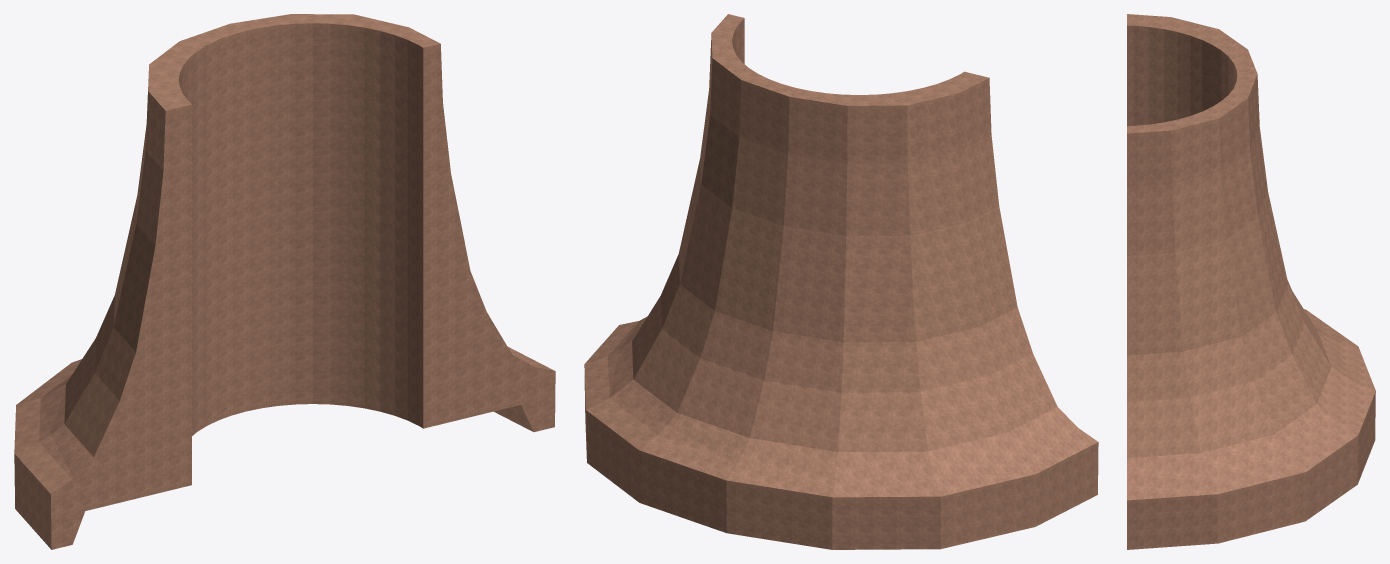
The model's file is Bell3.glb.
3 renders of one model, left to right at view 1: azimuth 30°, elevation 25°; view 2: azimuth 150°, elevation 25°; view 3: azimuth 270°, elevation 25°, orthographic. The views are drawn at different scales.
Visible parts, largest first — view 1: Mesh_Mesh_head_geo.001_lambert2SG.001; view 2: Mesh_Mesh_head_geo.001_lambert2SG.001; view 3: Mesh_Mesh_head_geo.001_lambert2SG.001.
Part boxes in pixels (x1,y1,x2,y2): Mesh_Mesh_head_geo.001_lambert2SG.001: [14, 14, 555, 549]; Mesh_Mesh_head_geo.001_lambert2SG.001: [584, 14, 1098, 549]; Mesh_Mesh_head_geo.001_lambert2SG.001: [1127, 14, 1375, 549].
Size of the model in its own units: 28.26 by 22 by 13.53.
1 material, 1 textured.
